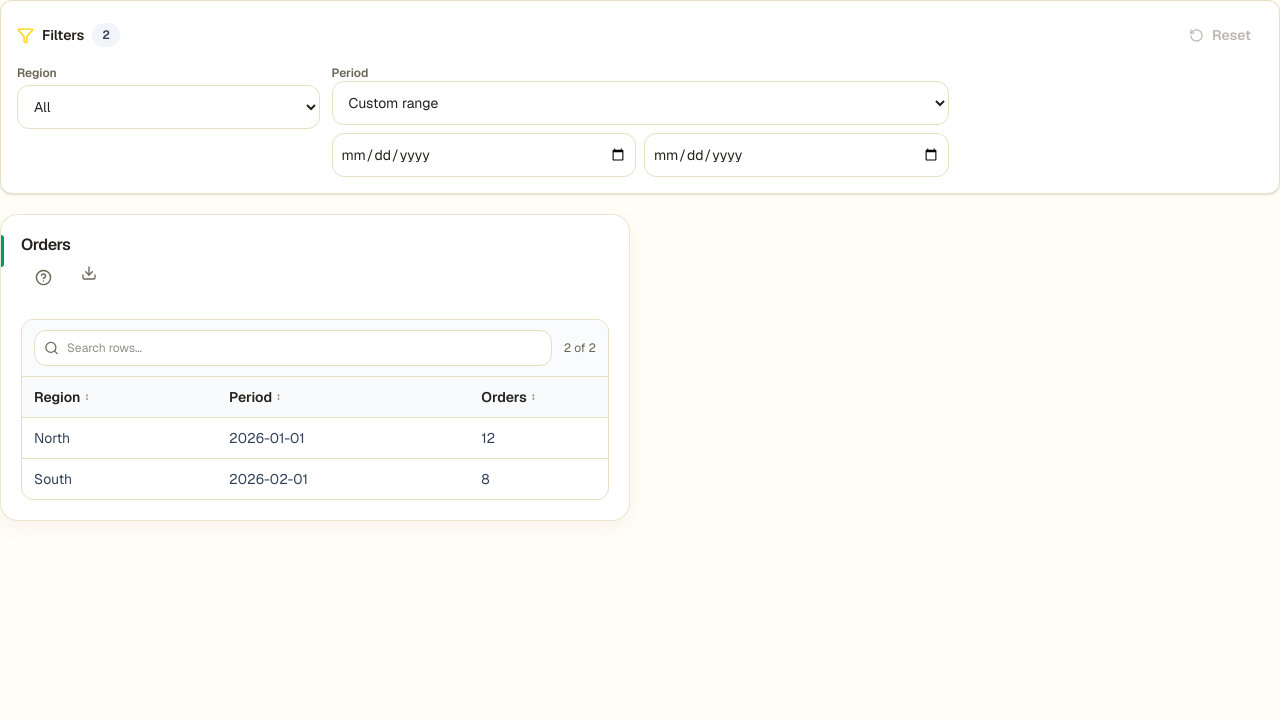
dashboard renderer states and filters › renders responsive layout metadata and updates widgets from filters
Select "South" in the dropdown labelled "Region": {"x": 168, "y": 107} top-left (17, 85), bottom-right (320, 129)
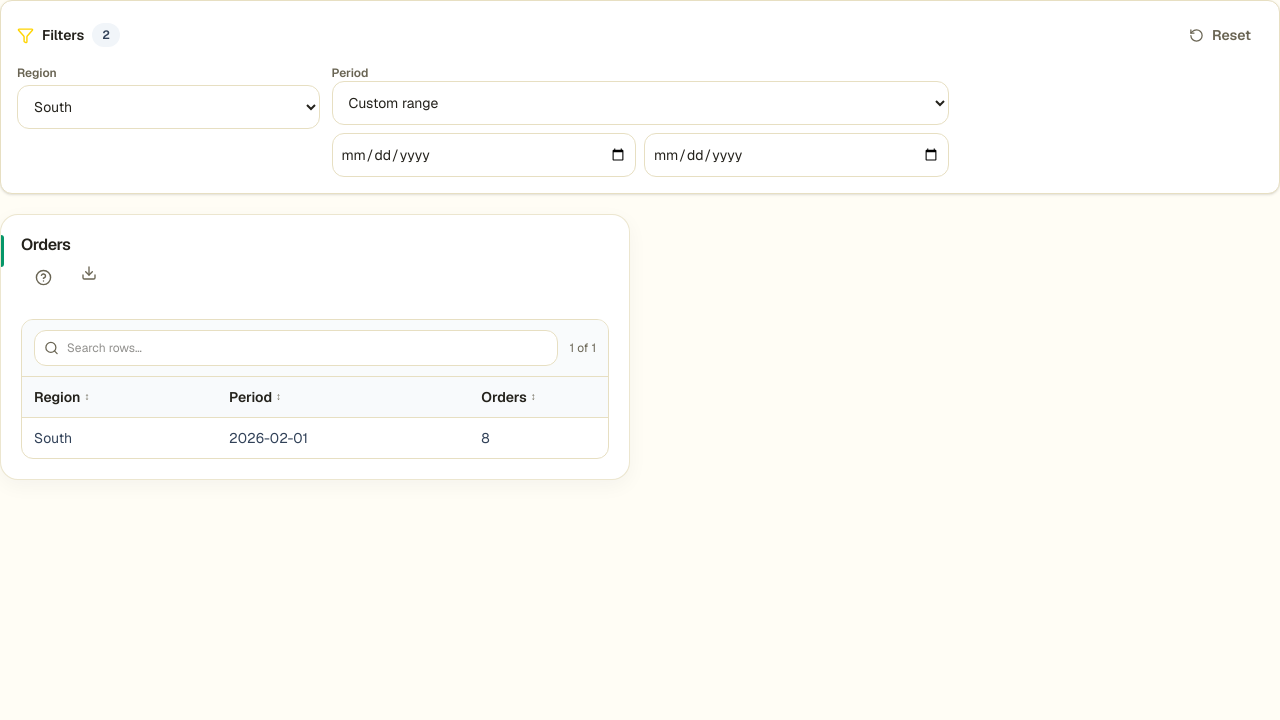
Check: the row "South 2026-02-01 8" is shown, box top-left (22, 418), bottom-right (608, 458)
Check: the cell no longer shows "North"
